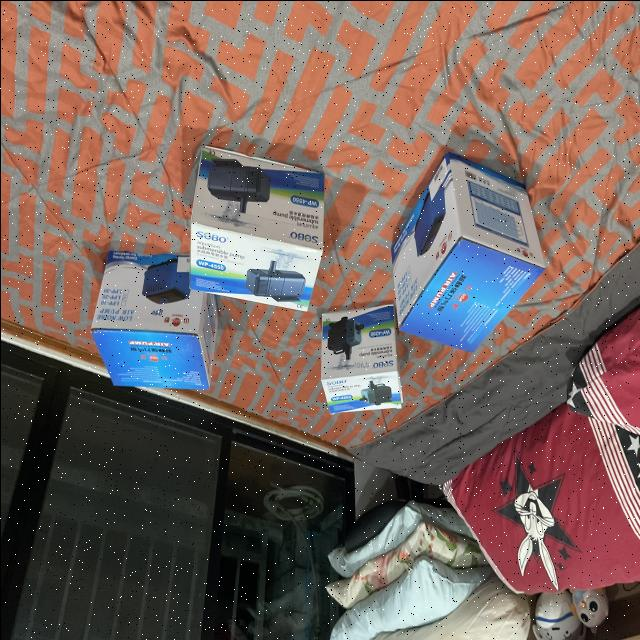SOBO_WP_4200: (182, 130, 328, 316), (313, 296, 406, 421)
YAMANO_LPP_20: (381, 146, 555, 370), (86, 243, 226, 412)
